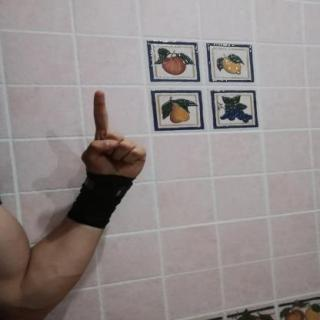BAA: (73, 83, 154, 189)
